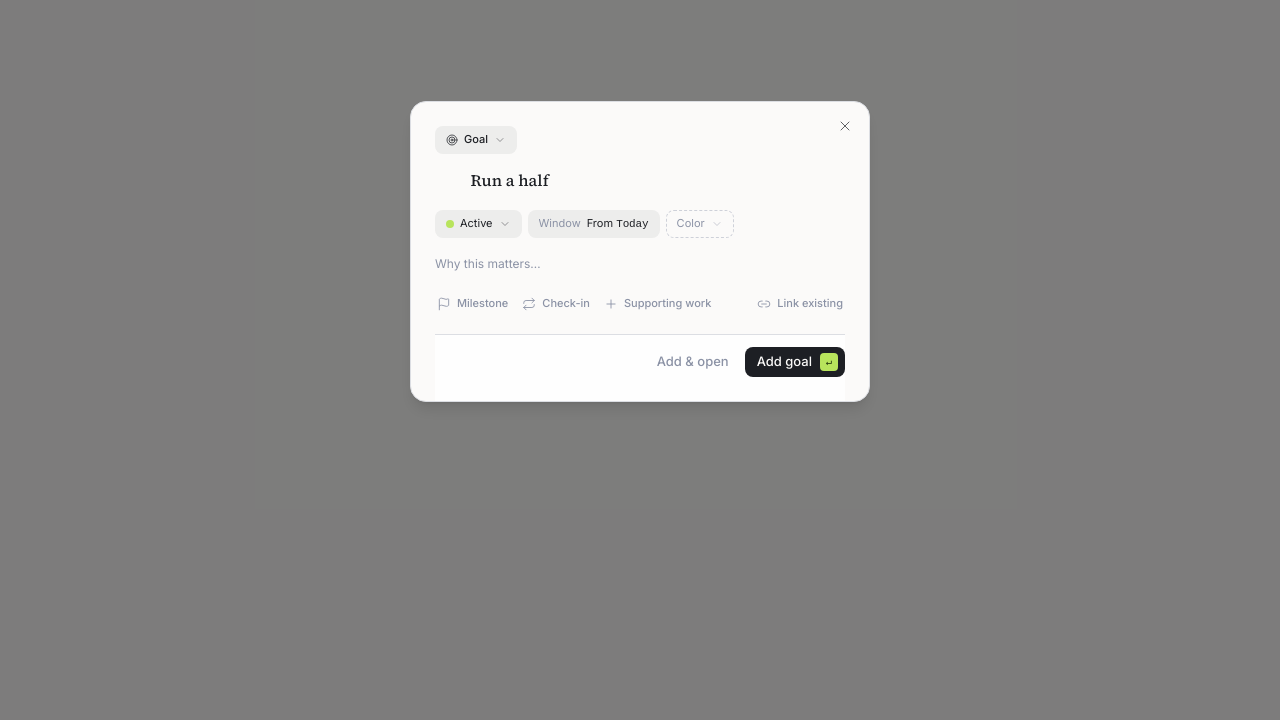
the "new" dialog, every field › opens quiet: no empty sections, one row of verbs that each bring theirs
Click the button with test id "goal-dialog-adder-milestone" at [473, 304], box [431,290,514,318]
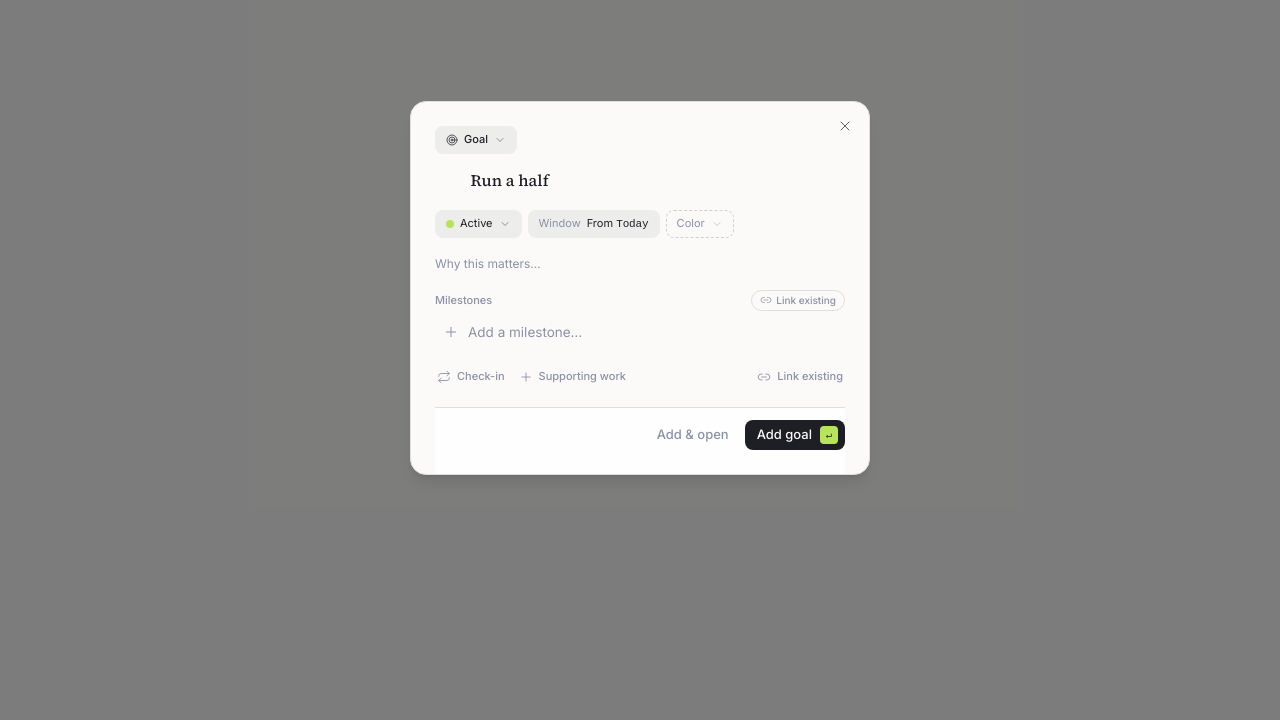
Expected: the button with test id "goal-dialog-adder-checkin" is shown, [431,363,511,391]
Expected: the element with test id "goal-dialog-milestones-members" is shown, [435,290,845,347]
Expected: the button with test id "goal-dialog-adder-milestone" is gone
